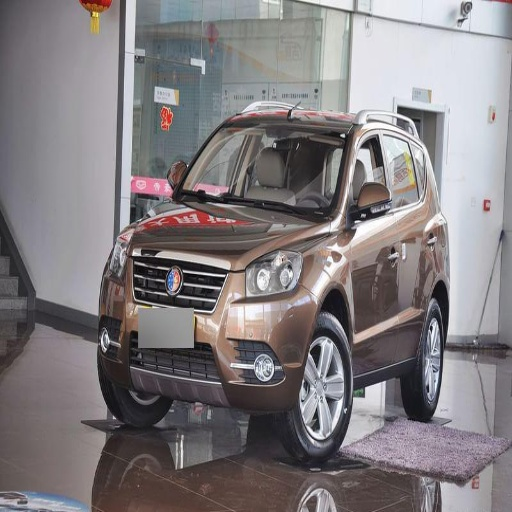front_bumper: (100, 249, 318, 422)
front_glass: (174, 119, 345, 218)
front_left_door: (347, 129, 401, 371)
